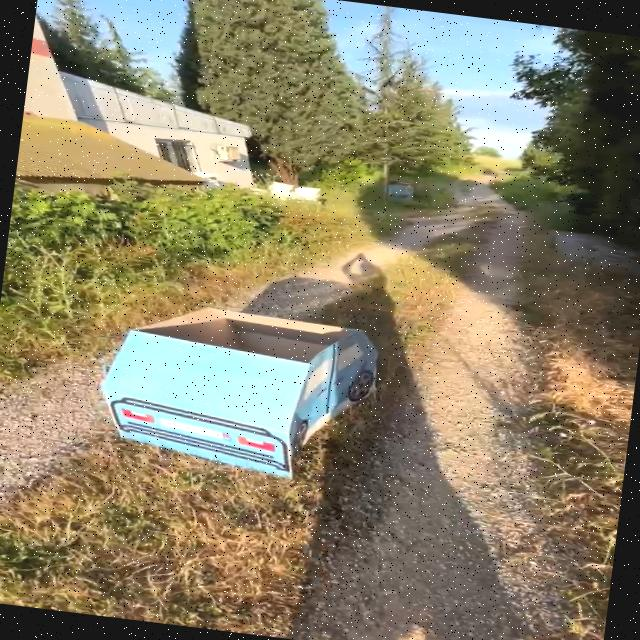blue_car: (74, 258, 474, 516)
